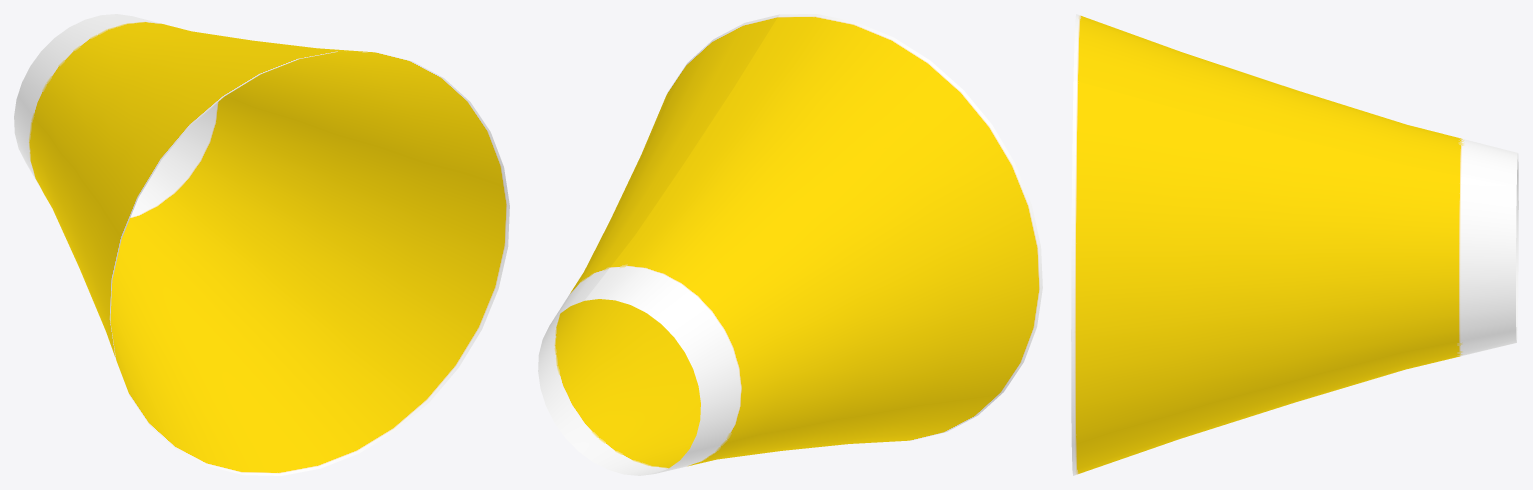
File: Portal_Wormhole.glb
3 renders of one model, left to right at view 1: azimuth 30°, elevation 25°; view 2: azimuth 150°, elevation 25°; view 3: azimuth 270°, elevation 25°, orthographic.
Parts seen in each view (by area): view 1: portal_entrance; view 2: portal_entrance; view 3: portal_entrance.
Part boxes in pixels (left/top/right/bottom): portal_entrance: left=14, top=14, right=509, bottom=475; portal_entrance: left=538, top=14, right=1042, bottom=475; portal_entrance: left=1071, top=14, right=1518, bottom=475.
Bounding box in the file's own units: 2.34 × 2.34 × 2.27.
1 material, 1 textured.
